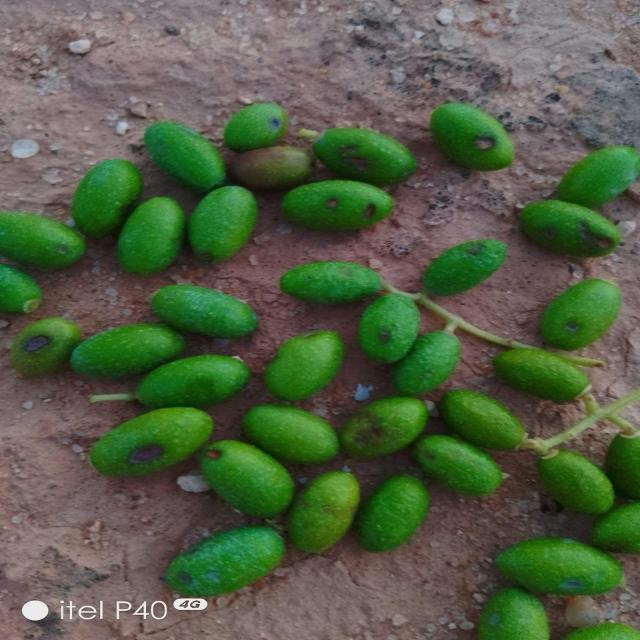Olive Fruit Fly: (89, 407, 213, 476), (164, 526, 284, 597), (494, 538, 623, 596), (200, 440, 293, 518), (299, 127, 416, 188), (518, 199, 620, 258), (429, 103, 514, 171), (540, 279, 621, 350), (281, 180, 393, 231), (341, 397, 427, 458), (422, 240, 506, 296), (0, 212, 84, 268), (357, 294, 419, 362), (10, 317, 81, 376), (223, 103, 287, 152)
